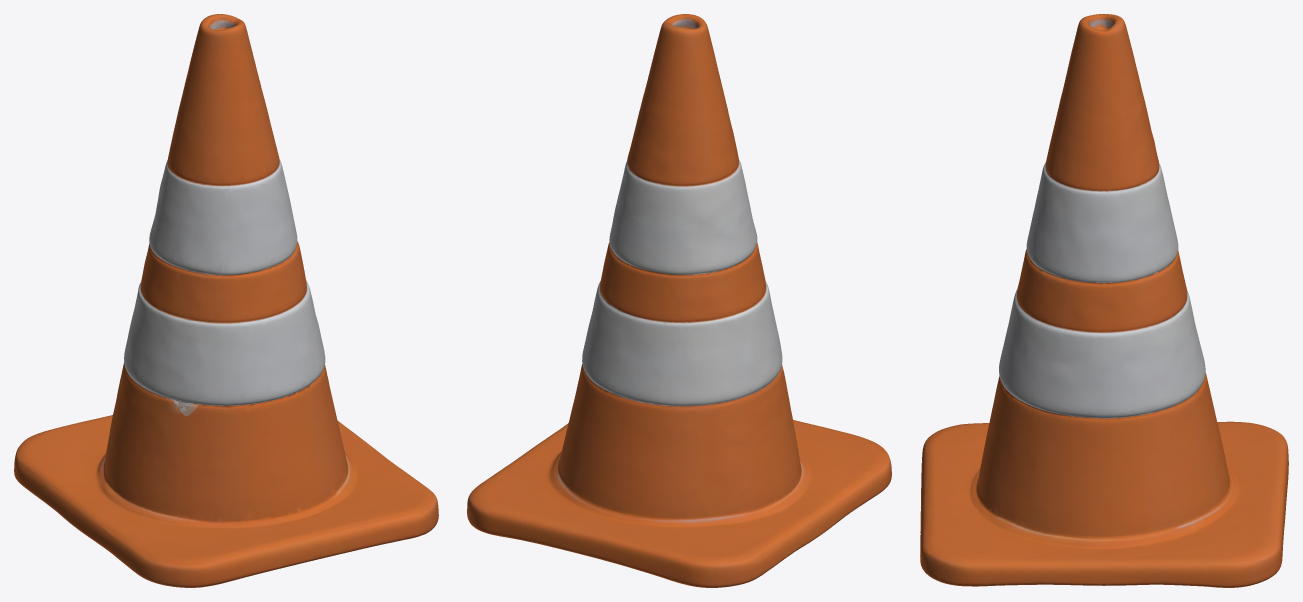
File: prop-traffic-cone.glb
The picture shows the model from 3 angles, left to right: view 1: azimuth 30°, elevation 25°; view 2: azimuth 150°, elevation 25°; view 3: azimuth 270°, elevation 25°; orthographic projection. The views are drawn at different scales.
Visible parts, largest first — view 1: tripo_node_d67ff6b9-6fd3-4f71-8b74-a019036cb85f; view 2: tripo_node_d67ff6b9-6fd3-4f71-8b74-a019036cb85f; view 3: tripo_node_d67ff6b9-6fd3-4f71-8b74-a019036cb85f.
Part boxes in pixels (<box>): tripo_node_d67ff6b9-6fd3-4f71-8b74-a019036cb85f: <box>14,14,438,587</box>; tripo_node_d67ff6b9-6fd3-4f71-8b74-a019036cb85f: <box>467,14,891,587</box>; tripo_node_d67ff6b9-6fd3-4f71-8b74-a019036cb85f: <box>920,14,1288,587</box>.
Size of the model in its own units: 0.5085 by 0.8 by 0.5371.
Materials: 1 (1 with a texture image).
